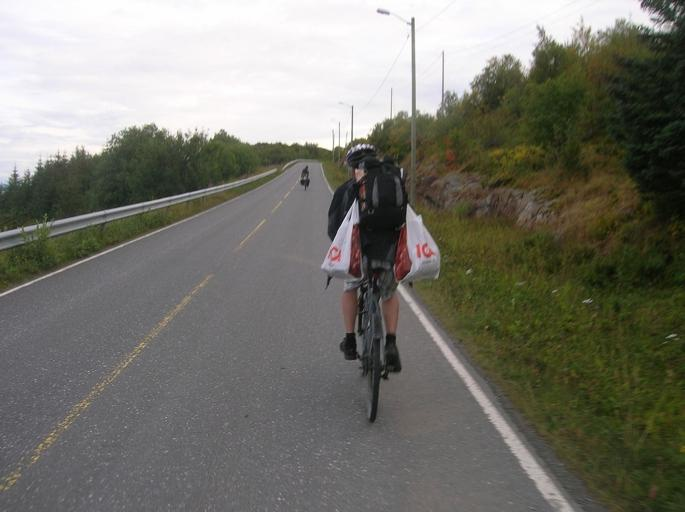non-vehicle: (344, 264, 401, 422), (300, 174, 309, 190)
